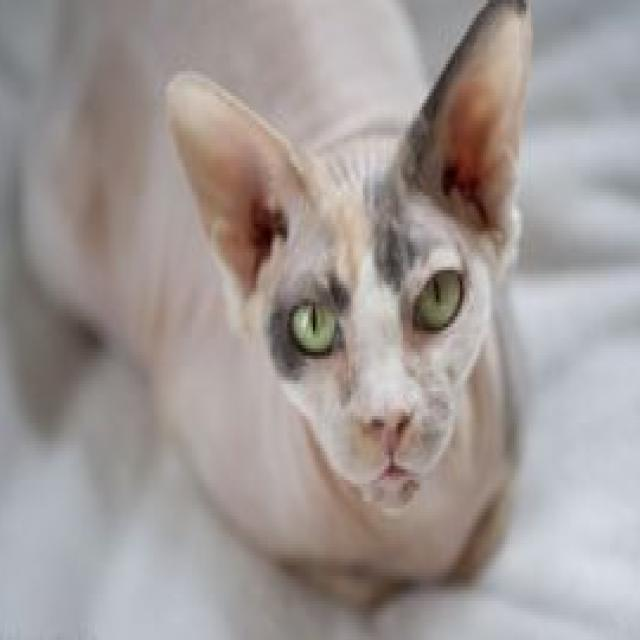Sphynx: (16, 0, 535, 604)
